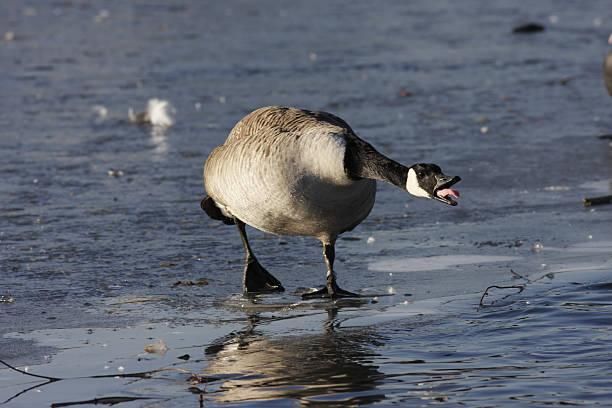Canadian-Goose: (194, 100, 458, 316)
